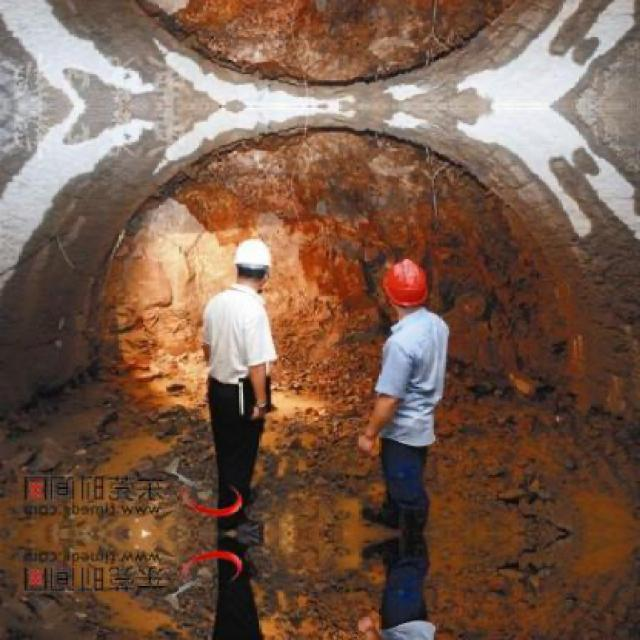2: (346, 258, 454, 532), (194, 240, 275, 528), (344, 535, 454, 639), (194, 540, 277, 638)
helmet: (381, 254, 434, 314), (234, 236, 269, 293)
